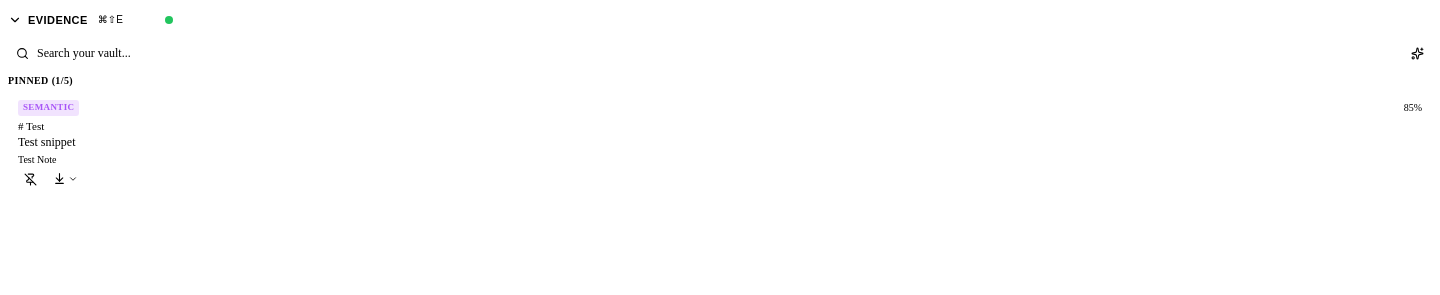
it: EvidenceRail › renders correct slot labels for thread mode
Step 1. Click the button named "Apply to slot" → (66, 179), box [47,169,84,188]
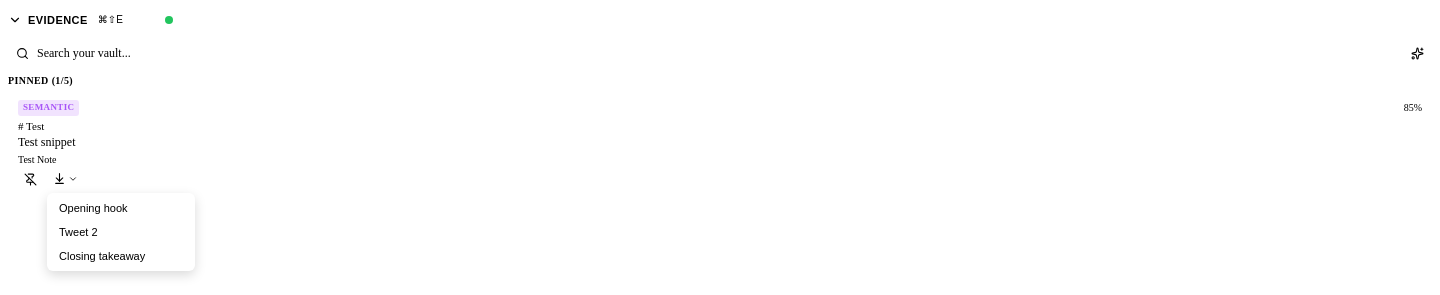
Result: the number of menu items with class "slot-option" is 3 at [51,197,191,219]; [51,221,191,243]; [51,245,191,267]
